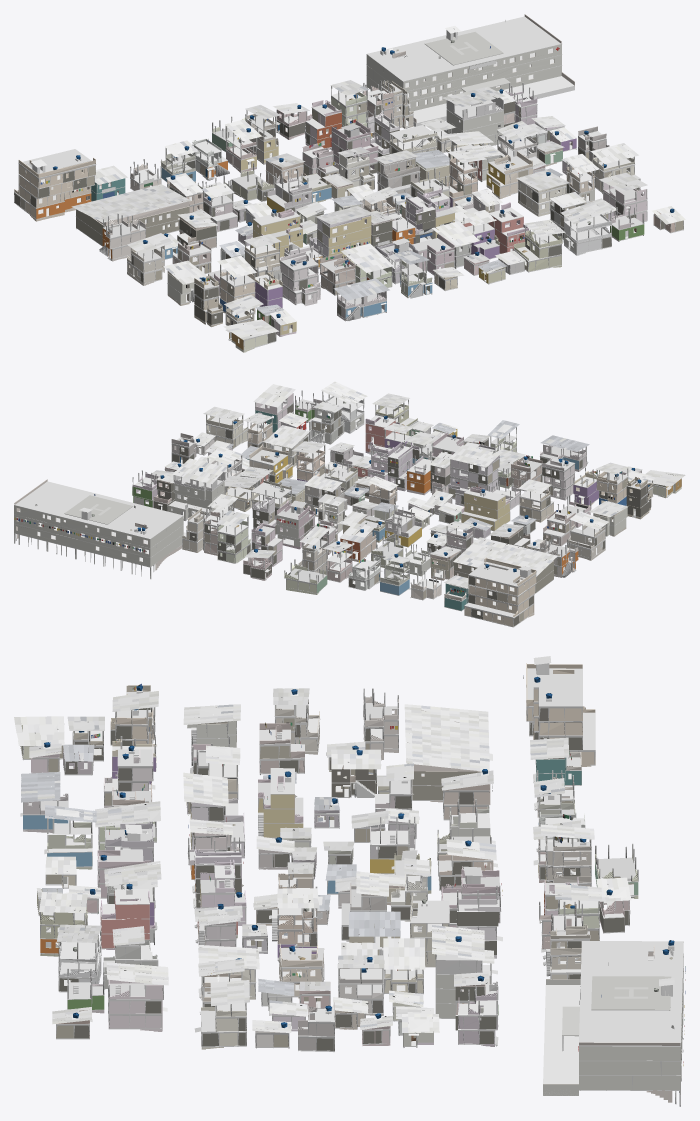
The picture shows the model from 3 angles, top to bottom: view 1: azimuth 30°, elevation 25°; view 2: azimuth 150°, elevation 25°; view 3: azimuth 270°, elevation 25°; orthographic projection. The views are drawn at different scales.
Visible parts, largest first — view 1: T_27_23; view 2: T_27_23; view 3: T_27_23.
Part boxes in pixels (x1=…): T_27_23: x1=14, y1=14, x2=685, y2=352; T_27_23: x1=14, y1=381, x2=685, y2=627; T_27_23: x1=14, y1=656, x2=685, y2=1106.
Size of the model in its own units: 151 by 18.05 by 119.
